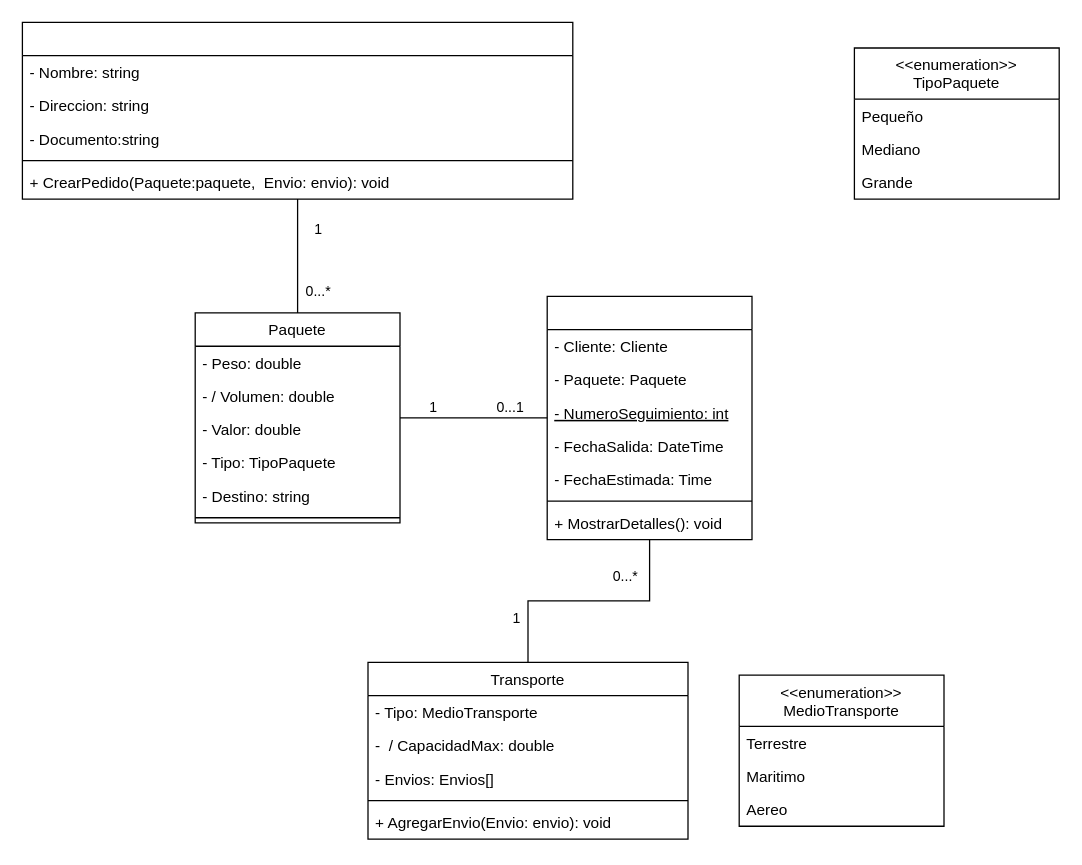
This 1082x865 diagram has some shape labels left out. Here are the shapes that lost their labels. From the top down, the box of each, then its label:
(21, 21, 573, 199): Cliente
(546, 295, 752, 540): Envio
